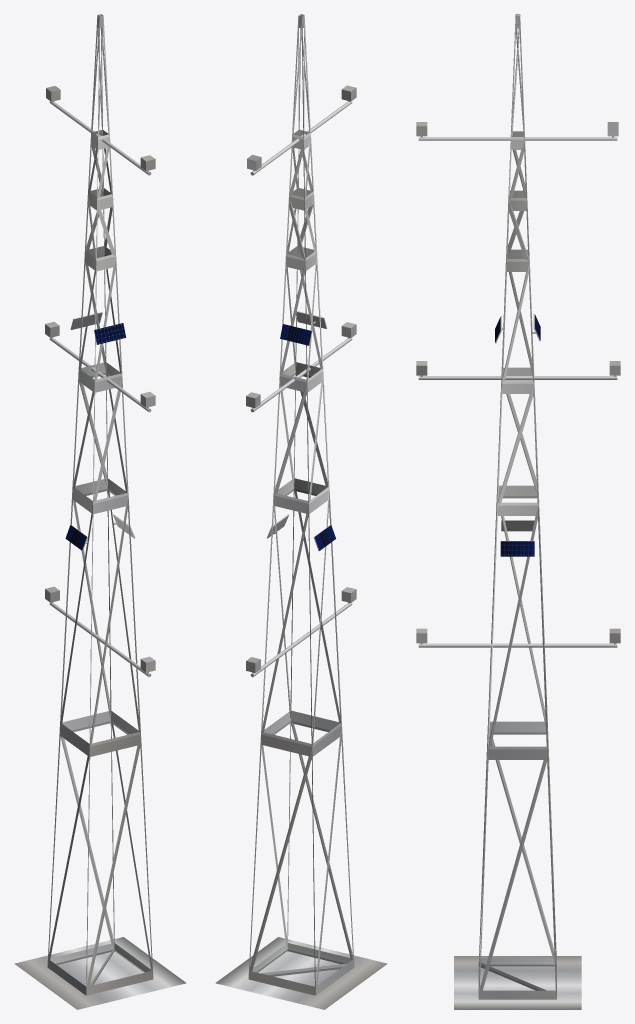
File: torre_meteorologica.fbx
3 views of the same model, side by side, from view 1: azimuth 30°, elevation 25°; view 2: azimuth 150°, elevation 25°; view 3: azimuth 270°, elevation 25° (orthographic).
Visible parts, largest first — view 1: Plane; view 2: Plane; view 3: Plane.
Part boxes in pixels (x1=…): Plane: x1=14, y1=14, x2=186, y2=1009; Plane: x1=215, y1=14, x2=387, y2=1009; Plane: x1=416, y1=14, x2=620, y2=1009.
Bounding box in the file's own units: 329 × 2751 × 526.
Materials: 2 (2 with a texture image).
